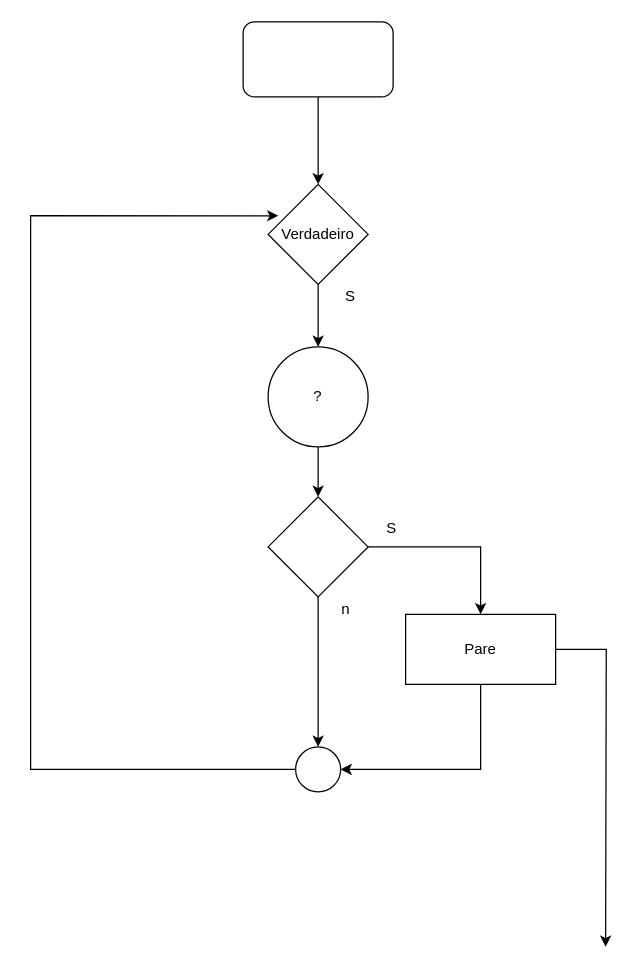
The diagram is 639 pixels wide and 979 high, and some of its shapes have lost their labels. Here are the shapes that lost their labels. From the top down, the centre of each, then its label:
At point (317, 59): "Inicio".
At point (317, 546): "Condição".
